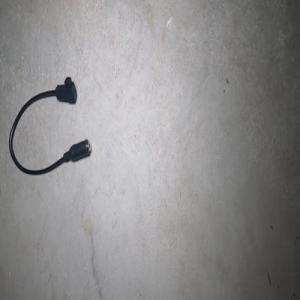Wire: (8, 76, 91, 175)
